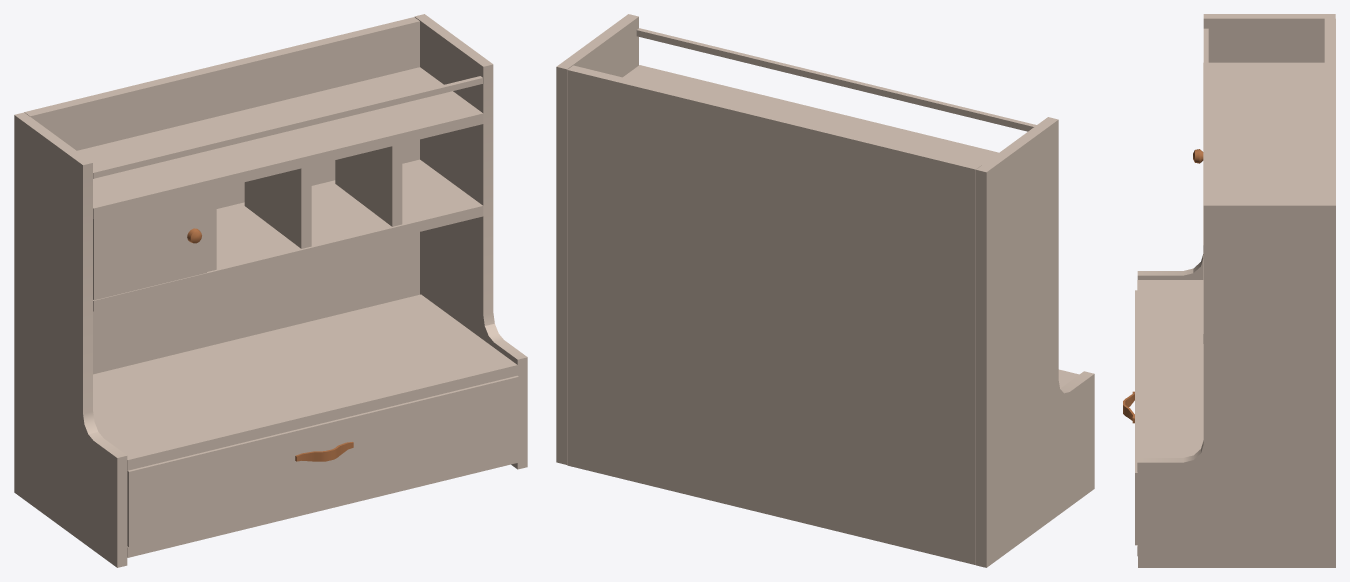
Rendered from prop_wall_boockshelf.fbx.
3 renders of one model, left to right at view 1: azimuth 30°, elevation 25°; view 2: azimuth 150°, elevation 25°; view 3: azimuth 270°, elevation 25°, orthographic. The views are drawn at different scales.
Visible parts, largest first — view 1: Estantería de pared; view 2: Estantería de pared; view 3: Estantería de pared.
Part boxes in pixels (x1,y1,x2,y2): Estantería de pared: (14,14,527,567); Estantería de pared: (556,14,1094,567); Estantería de pared: (1123,14,1335,567).
Bounding box in the file's own units: 96.49 × 84.96 × 45.15.
Materials: 2 (2 with a texture image).
